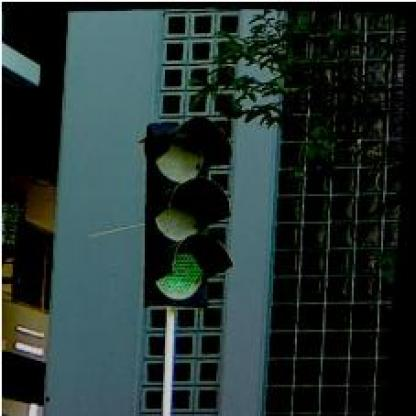green: (137, 113, 244, 309)
